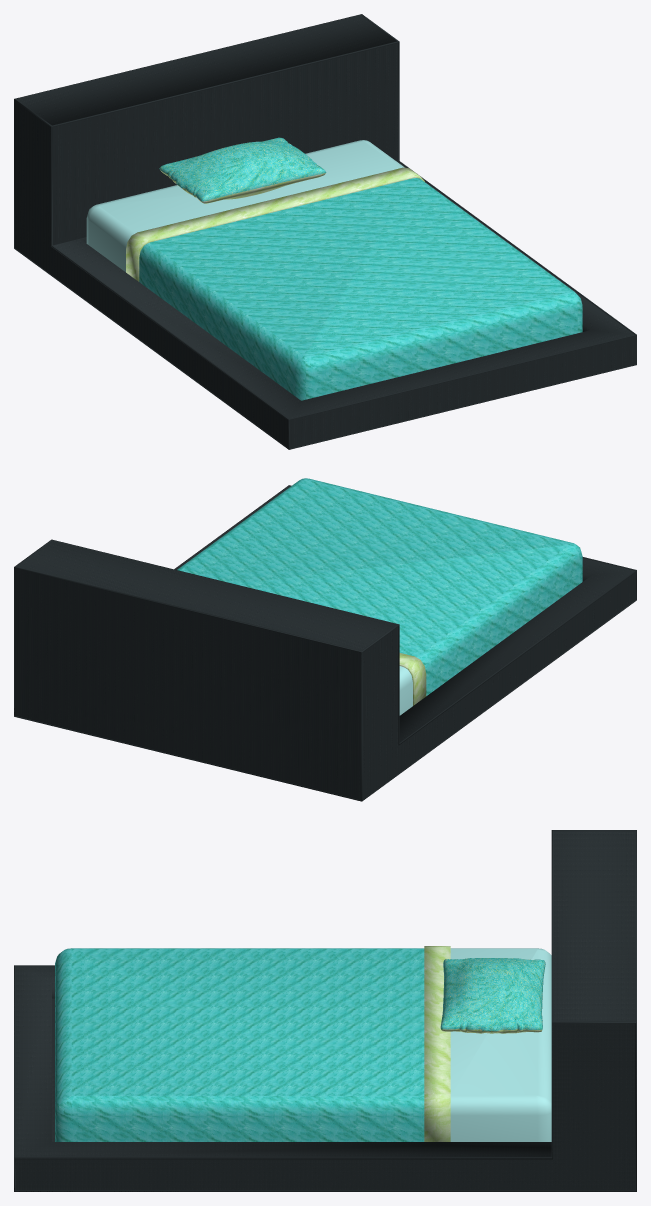
Rendered from bed_2.dae.
The picture shows the model from 3 angles, top to bottom: view 1: azimuth 30°, elevation 25°; view 2: azimuth 150°, elevation 25°; view 3: azimuth 270°, elevation 25°; orthographic projection. The views are drawn at different scales.
Visible parts, largest first — view 1: group_0 (×4), group_1 (×3), Box01a (×2); view 2: group_0 (×4), group_1 (×3); view 3: group_1 (×3), group_0 (×3), Box01a.
Part boxes in pixels (<box>): group_0 (×4): <box>14,14,636,449</box>; group_1 (×3): <box>86,140,582,400</box>; Box01a (×2): <box>159,137,326,203</box>; group_0 (×4): <box>14,485,636,801</box>; group_1 (×3): <box>177,478,582,715</box>; group_1 (×3): <box>55,946,551,1141</box>; group_0 (×3): <box>14,830,636,1191</box>; Box01a: <box>440,958,545,1031</box>.
Size of the model in its own units: 73.2 by 100 by 30.1.
Materials: 6 (4 with a texture image).
